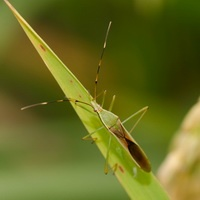insect: (18, 15, 150, 172)
